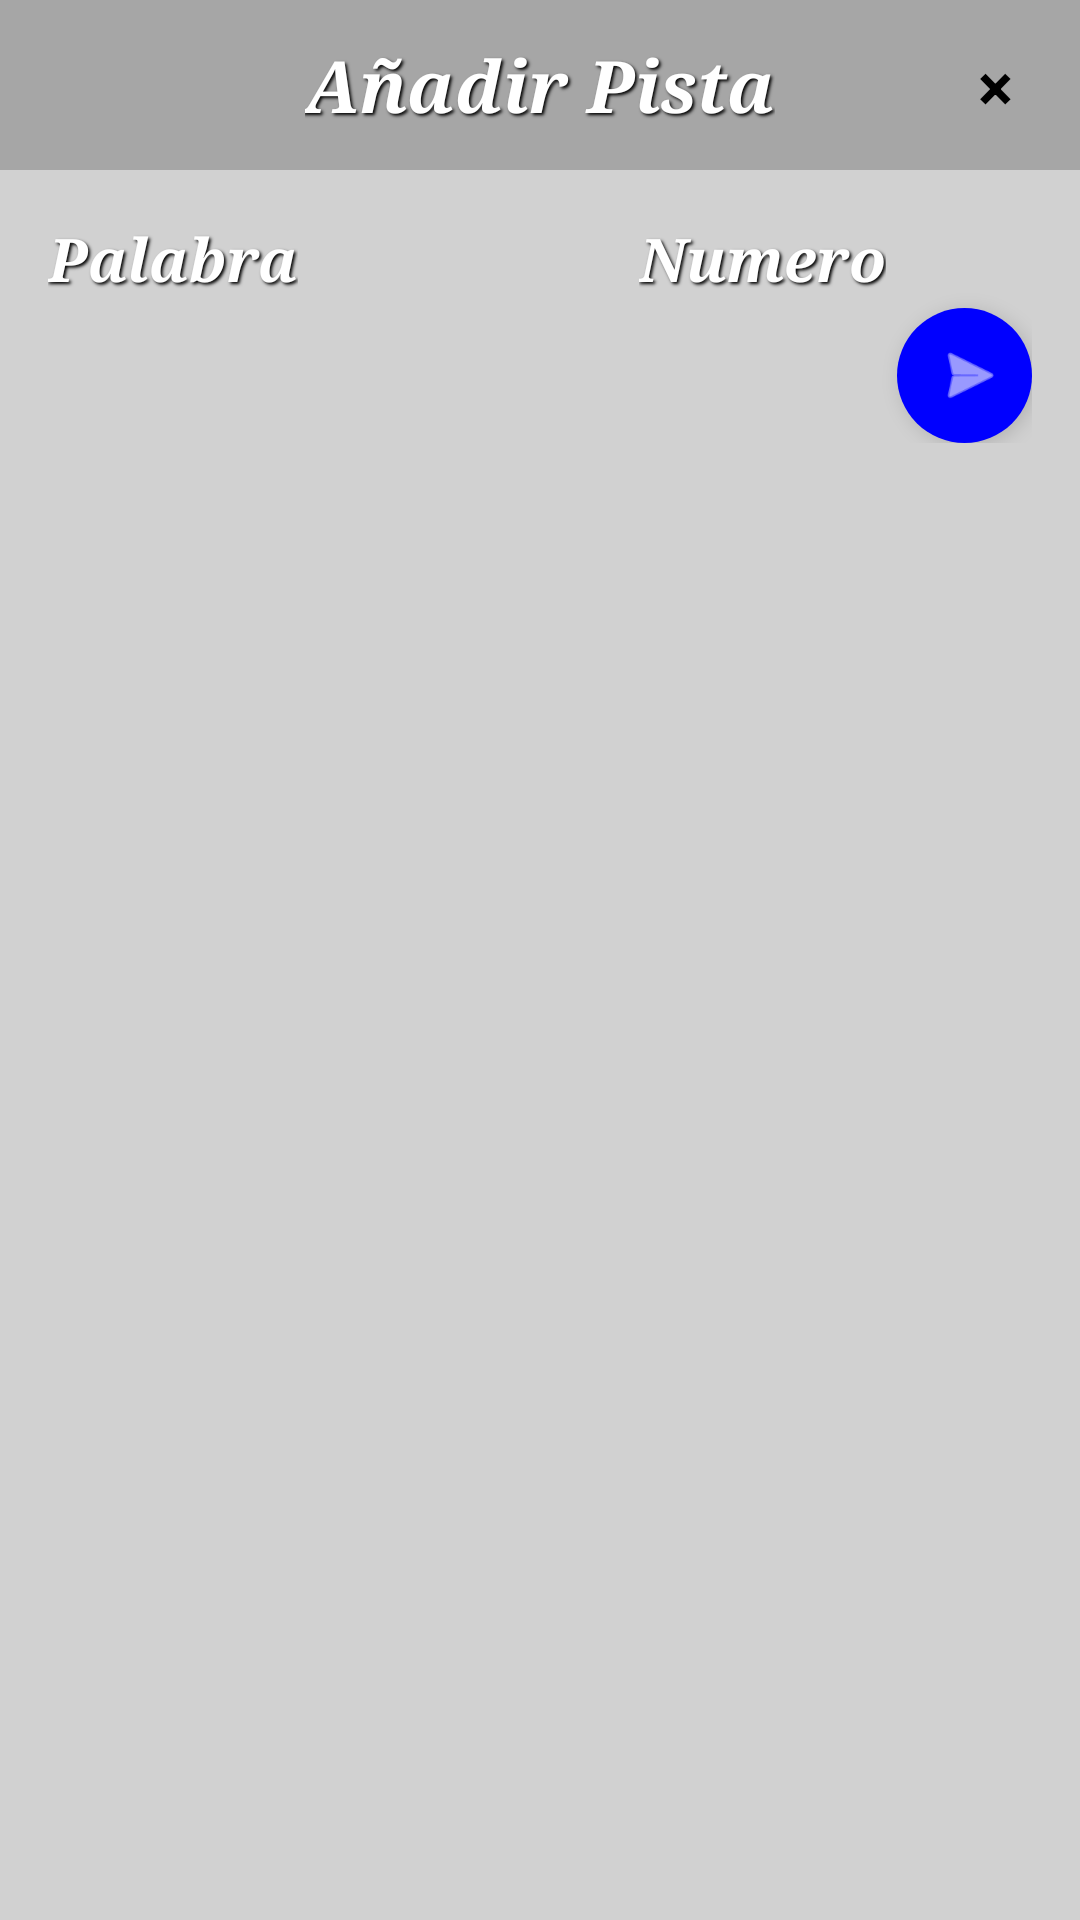

Point at icon controls on the screen. Image size 1080 x 1920, points as [x,y].
send: [970,375]
